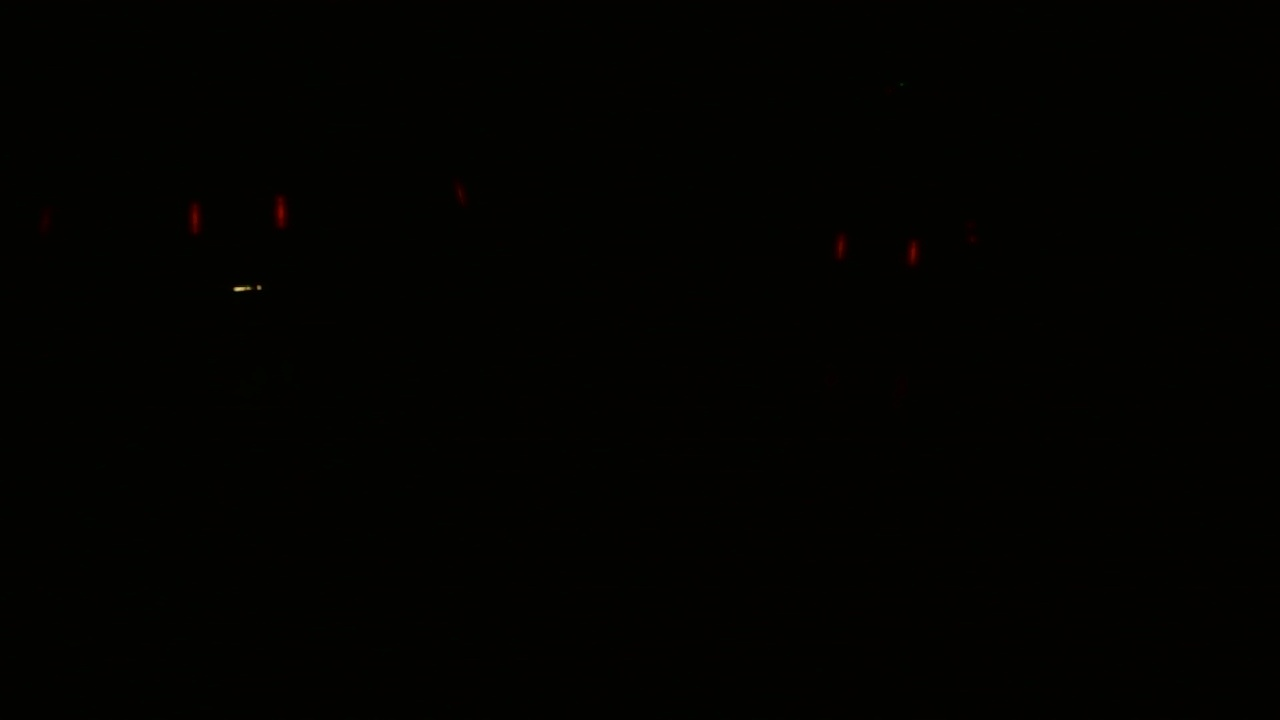pair1: (182, 187, 295, 244)
pair2: (825, 222, 929, 277)
